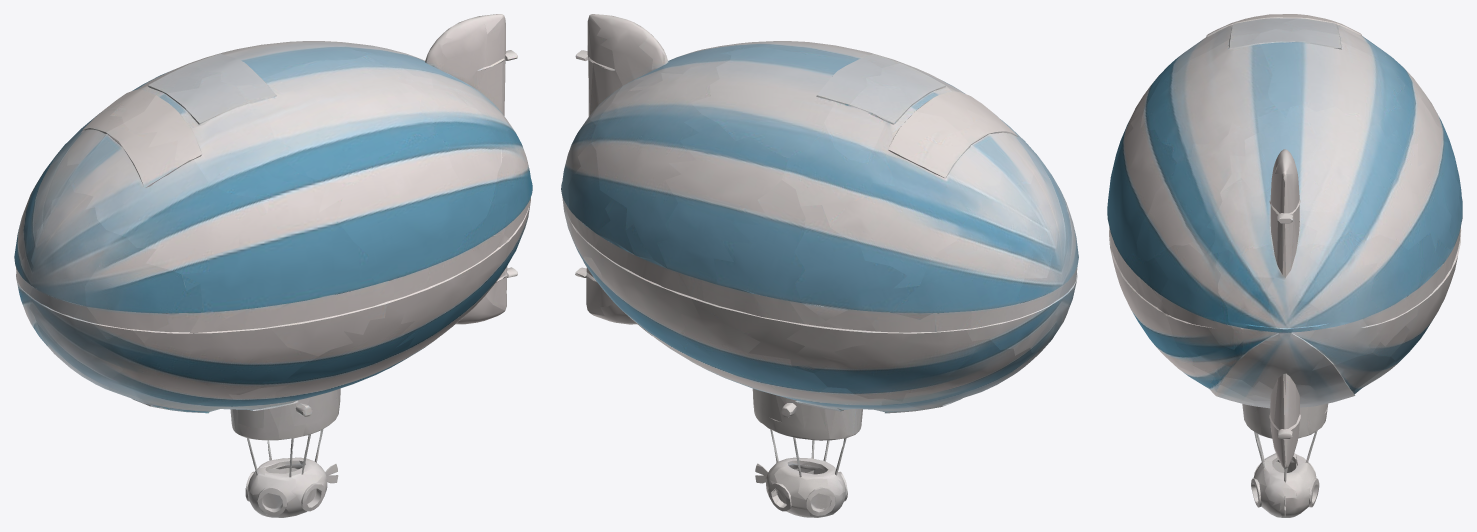
The model's file is blimp.glb.
The picture shows the model from 3 angles, left to right: view 1: azimuth 30°, elevation 25°; view 2: azimuth 150°, elevation 25°; view 3: azimuth 270°, elevation 25°; orthographic projection.
Parts seen in each view (by area): view 1: mesh_node; view 2: mesh_node; view 3: mesh_node.
Boxes of the visible parts, left/top/right/bottom form: mesh_node: left=14, top=14, right=532, bottom=517; mesh_node: left=561, top=14, right=1078, bottom=517; mesh_node: left=1107, top=14, right=1462, bottom=517.
Bounding box in the file's own units: 1.9 × 1.68 × 1.21.
Materials: 1 (1 with a texture image).
